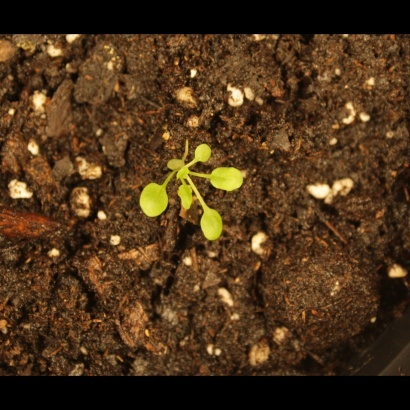leaf: (136, 182, 173, 220), (197, 209, 232, 244), (208, 165, 248, 192), (174, 181, 197, 214), (191, 140, 214, 169), (164, 148, 187, 174), (177, 164, 200, 187)
